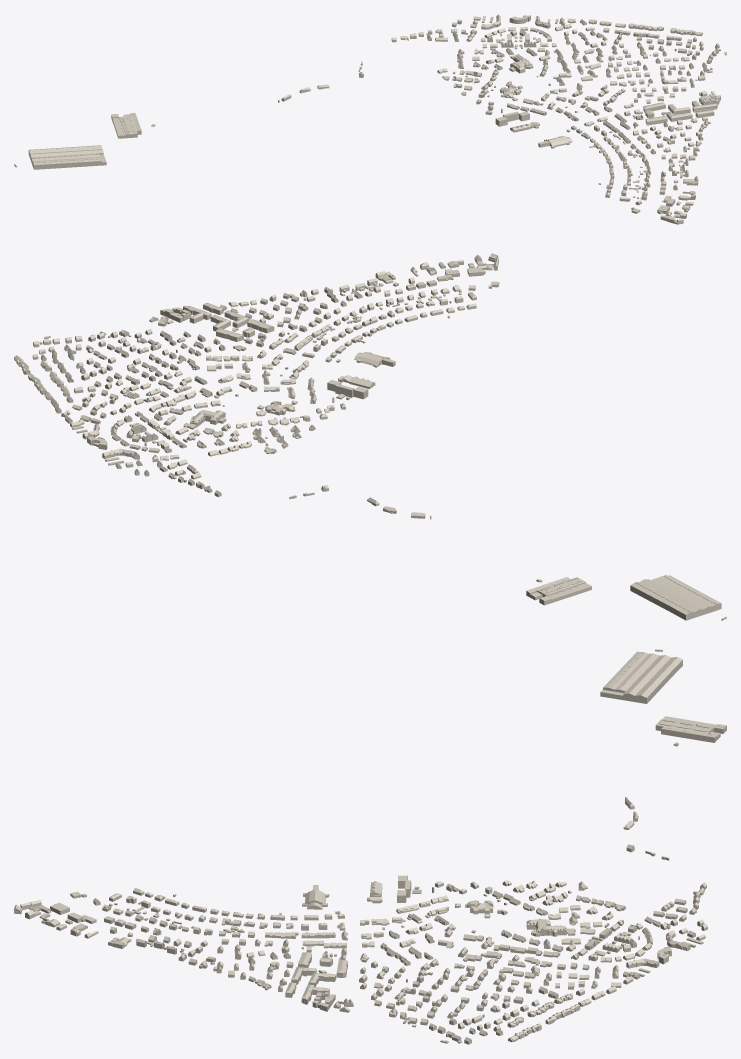
3 views of the same model, one above another, from view 1: azimuth 30°, elevation 25°; view 2: azimuth 150°, elevation 25°; view 3: azimuth 270°, elevation 25° (orthographic). The views are drawn at different scales.
Bounding box in the file's own units: 1598 × 57.35 × 1157.
